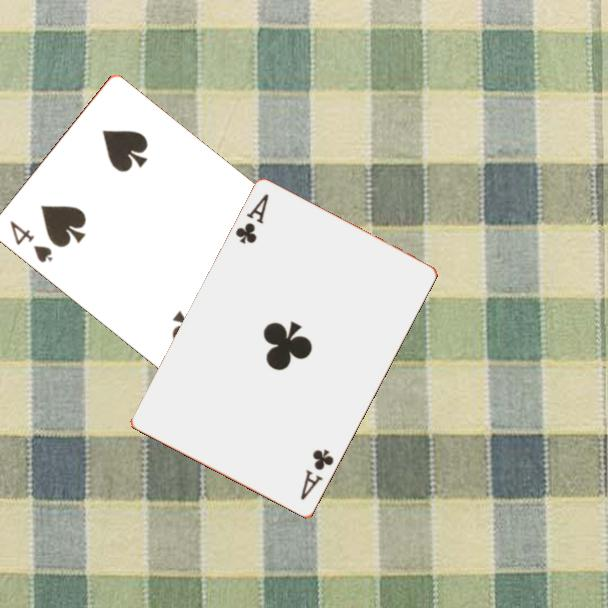c01: (232, 190, 272, 248), (297, 446, 337, 503)
s04: (6, 217, 56, 266)
